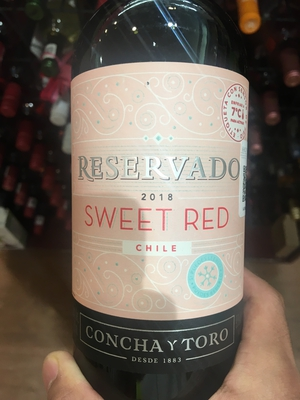reservado sweet red: (58, 12, 253, 400)
